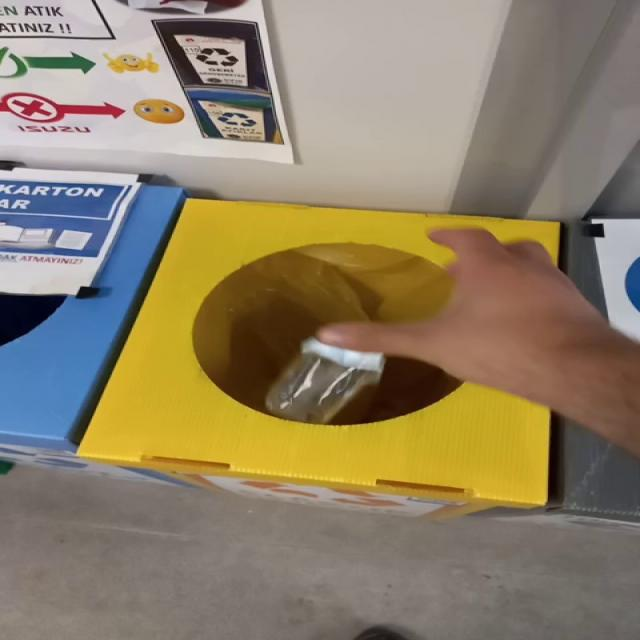plastic: (267, 338, 385, 424)
